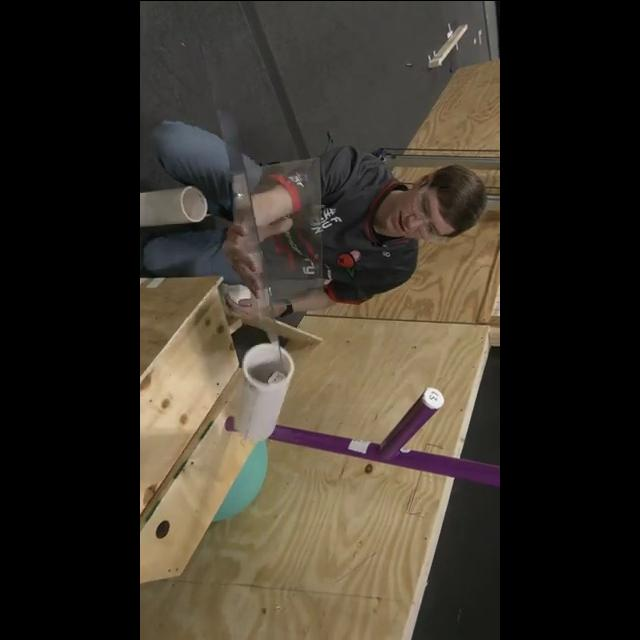CORAL: (226, 339, 298, 441), (140, 185, 208, 225)
